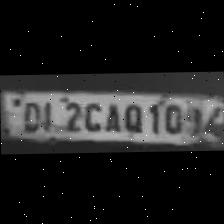0: (158, 100, 183, 134)
1: (142, 98, 162, 132)
2: (55, 97, 81, 131)
4: (202, 100, 222, 134)
9: (181, 100, 203, 134)
A: (100, 100, 120, 132)
C: (80, 98, 102, 131)
D: (16, 95, 44, 132)
L: (38, 94, 54, 132)
Q: (120, 99, 144, 130)
